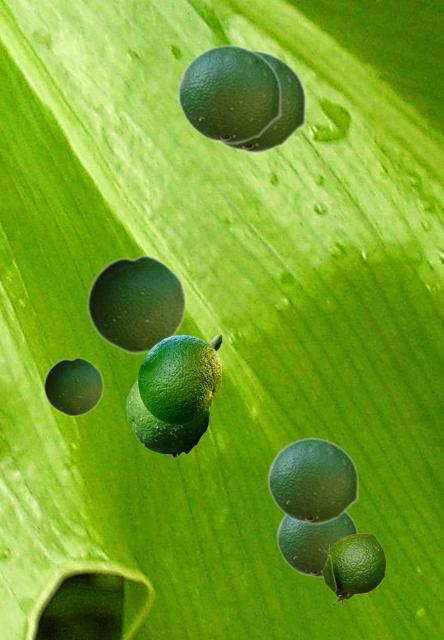dalandan: (177, 44, 281, 144), (86, 254, 186, 354), (218, 49, 306, 153), (267, 437, 358, 524), (138, 335, 220, 423), (126, 379, 210, 457), (276, 511, 358, 577), (321, 533, 385, 605), (43, 356, 103, 416)
